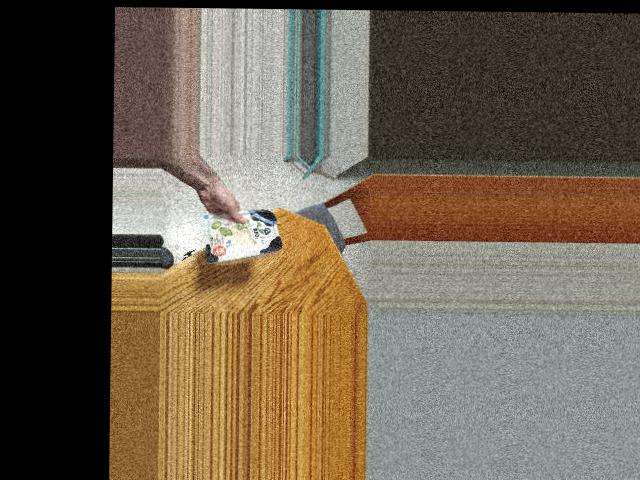cheese: (204, 206, 281, 265)
